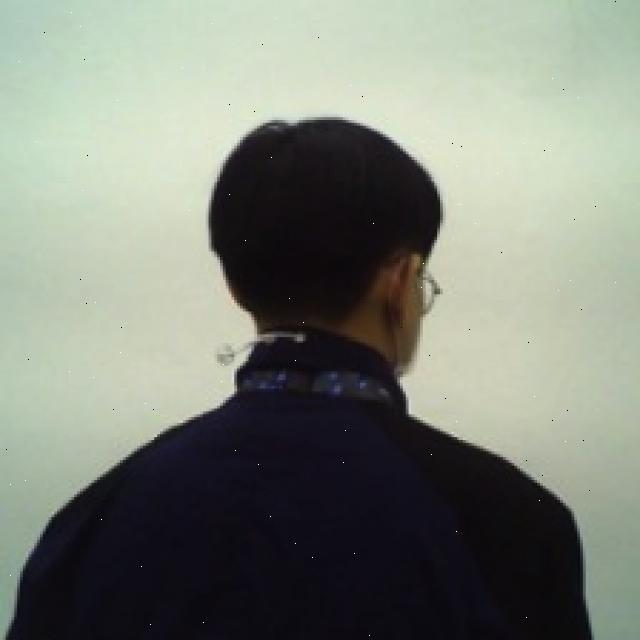no_gloves: (201, 104, 449, 351)
